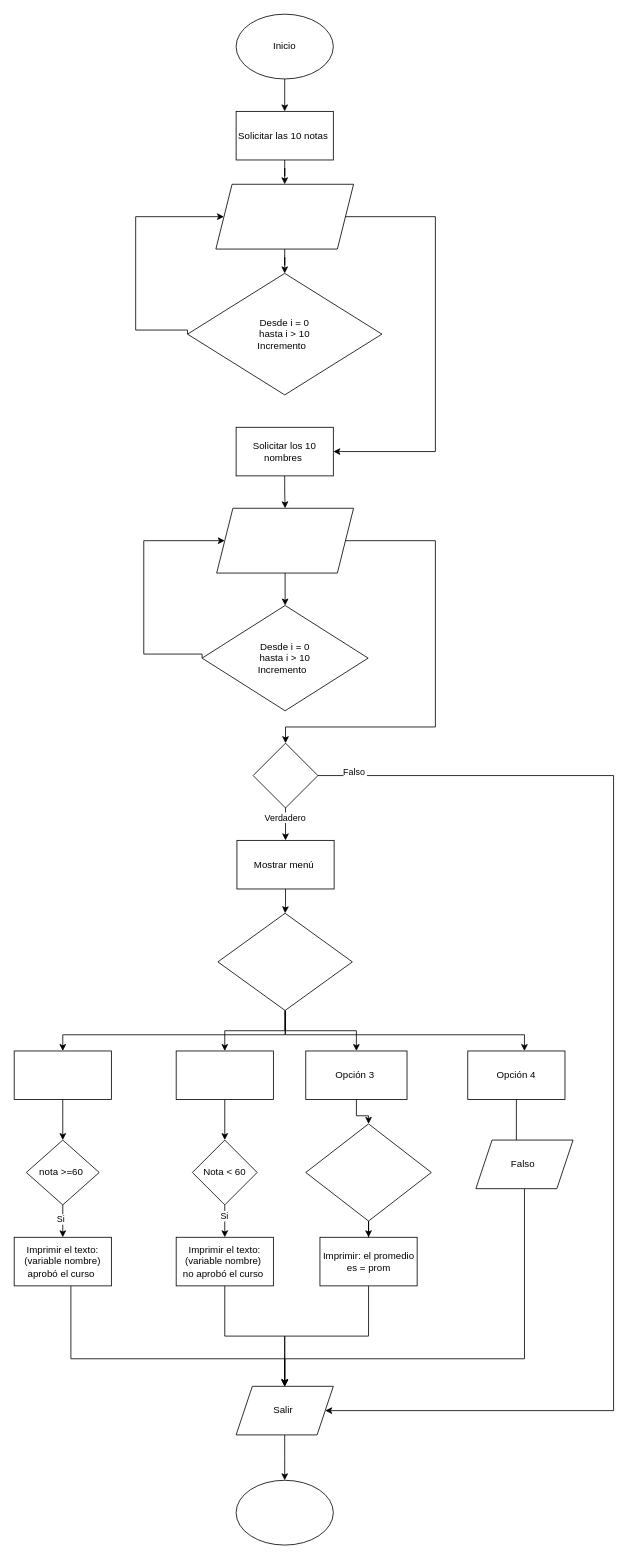
Some shapes in this 634 by 1559 pixel diagram are drawn without their labels. Here are the shapes that lost their labels. From the top down, the centre of each, then its label:
At (x=284, y=216): "Ingresar las 10 notas".
At (x=285, y=540): "Ingresar los 10 nombres".
At (x=285, y=775): "Mientras".
At (x=284, y=961): "Elegir opción del 1 a 4".
At (x=62, y=1075): "Opción 1".
At (x=224, y=1075): "Opción 2".
At (x=368, y=1172): "prom = Variable nota/ 10".
At (x=284, y=1512): "Fin".
